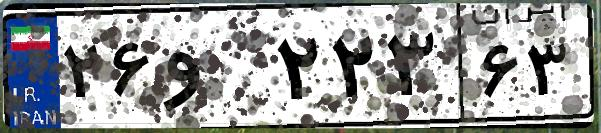2: (270, 28, 330, 110), (330, 28, 385, 110), (57, 26, 110, 100)
3: (385, 28, 445, 110), (525, 38, 570, 115)
6: (475, 38, 525, 113), (110, 28, 158, 98)
و: (158, 20, 270, 120)
